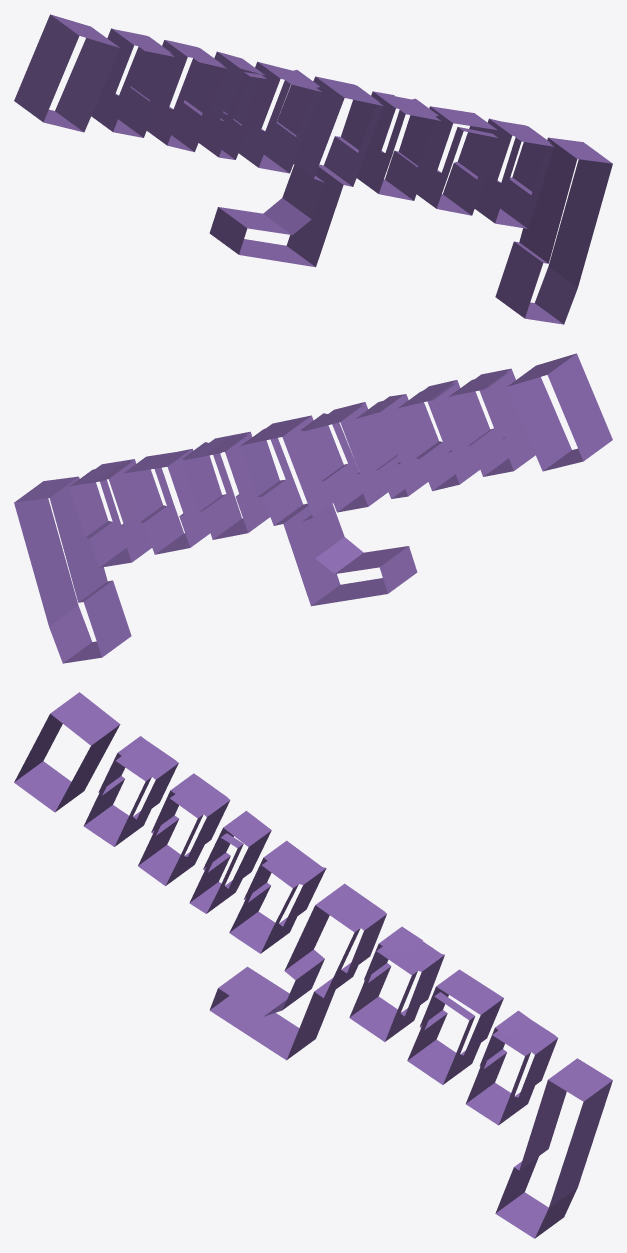
The model's file is Wall_Hini_6.0_Slope_2.5.obj.
The picture shows the model from 3 angles, top to bottom: view 1: azimuth 30°, elevation 25°; view 2: azimuth 150°, elevation 25°; view 3: azimuth 330°, elevation 25°; orthographic projection.
Visible parts, largest first — view 1: 5, 1, 10, 3, 4, 7, 9, 2, 8, 6; view 2: 5, 1, 10, 9, 3, 7, 2, 4, 8, 6; view 3: 5, 1, 10, 3, 4, 2, 7, 9, 8, 6.
Boxes of the visible parts, left/top/right/bottom form: 5: left=209, top=76, right=383, bottom=267; 1: left=495, top=137, right=612, bottom=324; 10: left=14, top=14, right=120, bottom=132; 3: left=356, top=91, right=441, bottom=200; 4: left=416, top=106, right=498, bottom=215; 7: left=239, top=61, right=322, bottom=173; 9: left=91, top=28, right=174, bottom=137; 2: left=474, top=118, right=554, bottom=228; 8: left=147, top=40, right=226, bottom=152; 6: left=198, top=51, right=266, bottom=159; 5: left=240, top=415, right=417, bottom=606; 1: left=14, top=476, right=131, bottom=663; 10: left=506, top=353, right=612, bottom=471; 9: left=448, top=368, right=535, bottom=476; 3: left=182, top=431, right=270, bottom=539; 7: left=300, top=402, right=387, bottom=512; 2: left=69, top=459, right=152, bottom=567; 4: left=123, top=448, right=210, bottom=554; 8: left=396, top=380, right=479, bottom=491; 6: left=355, top=394, right=428, bottom=498; 5: left=209, top=883, right=386, bottom=1060; 1: left=495, top=1058, right=612, bottom=1238; 10: left=14, top=692, right=120, bottom=812; 3: left=349, top=926, right=444, bottom=1041; 4: left=407, top=969, right=503, bottom=1084; 2: left=466, top=1010, right=557, bottom=1125; 7: left=229, top=840, right=326, bottom=953; 9: left=83, top=736, right=178, bottom=846; 8: left=138, top=773, right=230, bottom=885; 6: left=189, top=810, right=271, bottom=913.
Size of the model in its own units: 134 by 91.5 by 12.
